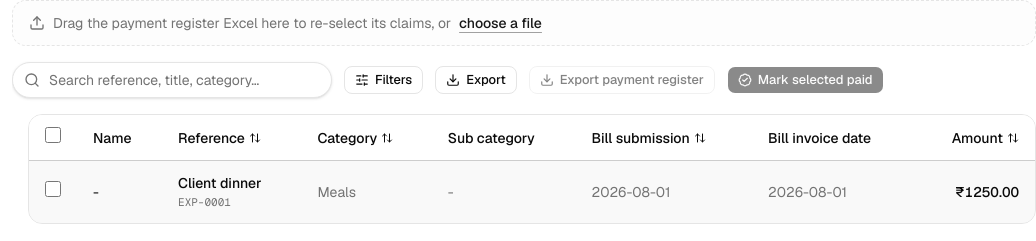
PaymentQueueTable payment register export (ADR-0023) › disables the register export until at least one claim is selected
Expected: the button "Export payment register" is disabled, [529, 66, 715, 94]
Click the checkbox named "Select EXP-0001" next to "Client dinner".
click(53, 189)  # box [45, 181, 61, 197]
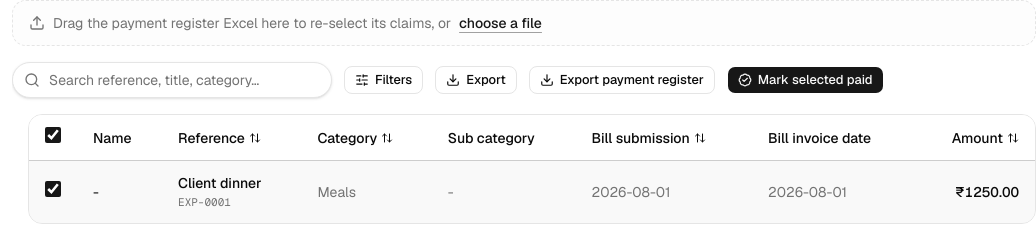
Expected: the button "Export payment register" is enabled, [529, 66, 715, 94]
